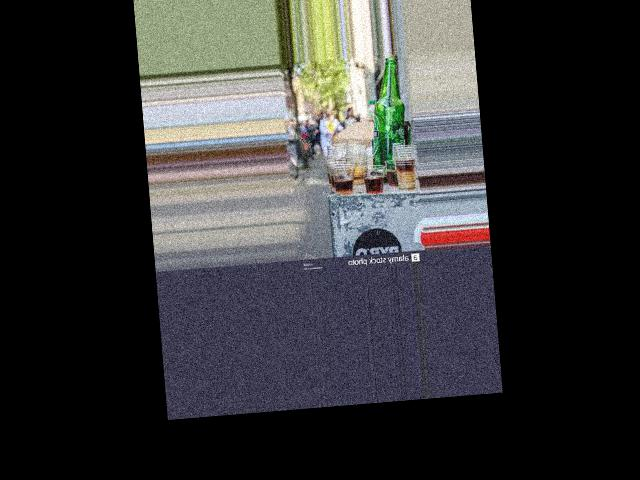beer: (363, 57, 410, 180)
